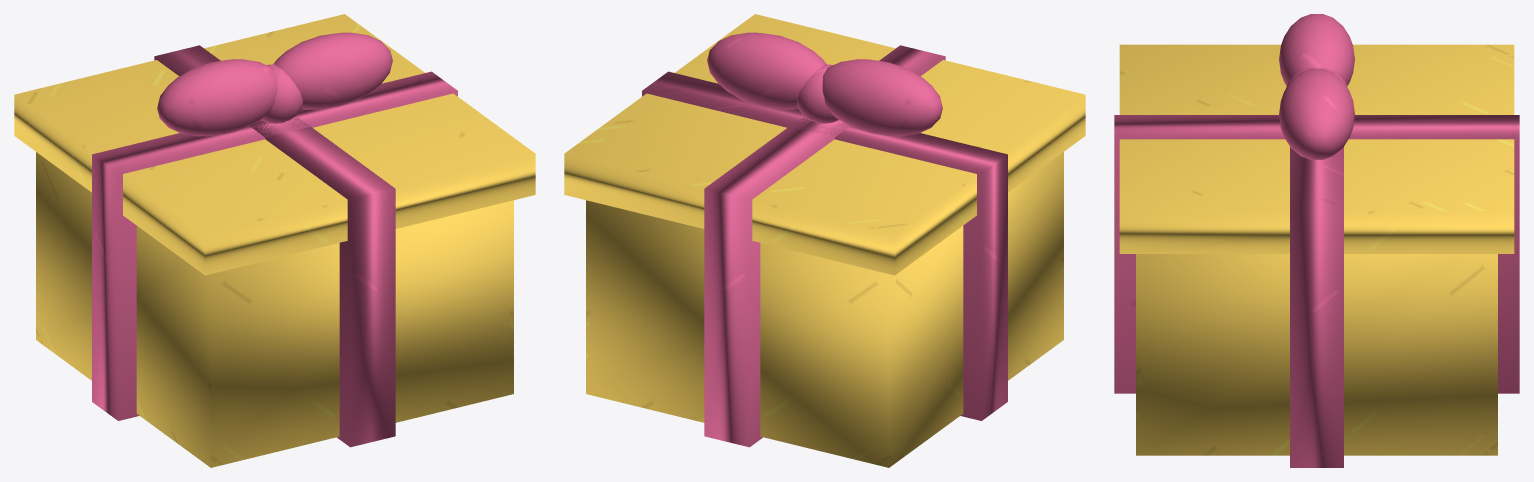
The model's file is regalo_4.obj.
3 renders of one model, left to right at view 1: azimuth 30°, elevation 25°; view 2: azimuth 150°, elevation 25°; view 3: azimuth 270°, elevation 25°, orthographic. The views are drawn at different scales.
Visible parts, largest first — view 1: regalo_4; view 2: regalo_4; view 3: regalo_4.
Boxes of the visible parts, x1,y1,x2,y2 form: regalo_4: (14,14,535,467); regalo_4: (564,14,1085,467); regalo_4: (1114,14,1519,467).
Bounding box in the file's own units: 1.12 × 1.01 × 1.12.
2 materials, 2 textured.
